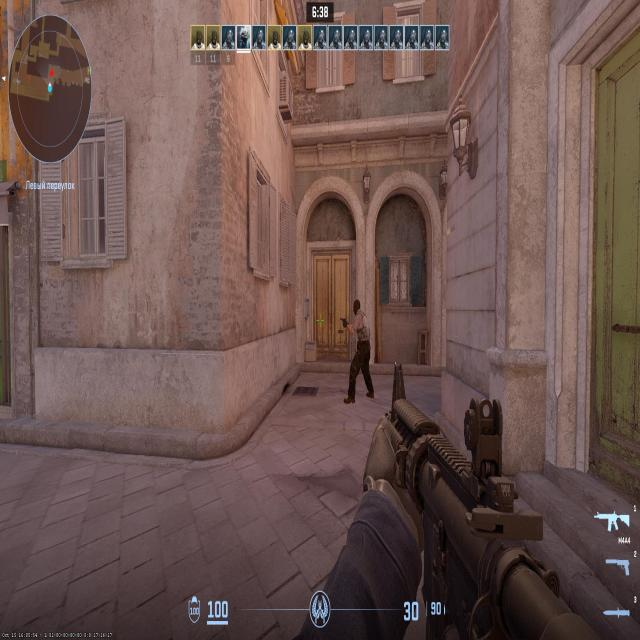T: (349, 303, 369, 387)
T_heat: (355, 304, 358, 311)
